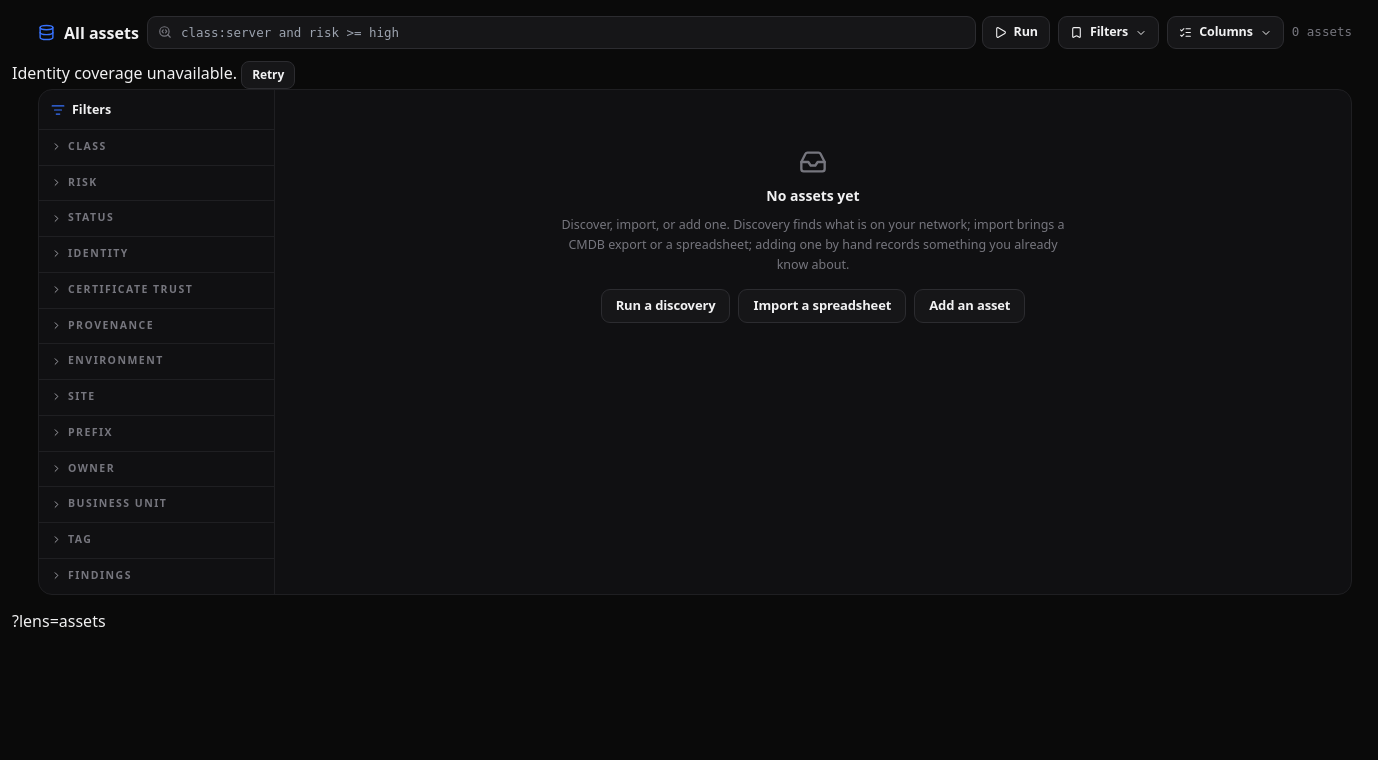
Scenario: Assets lens · Certificate trust facet › asks for the cert_trust level and shows its counts, with an unlisted value as a real zero
The width and height of the screenshot is (1378, 760).
What coordinates should you click on to do the following:
click the button "Certificate trust"
I would click on:
 (156, 290)
Its box is [51,282,262,298].
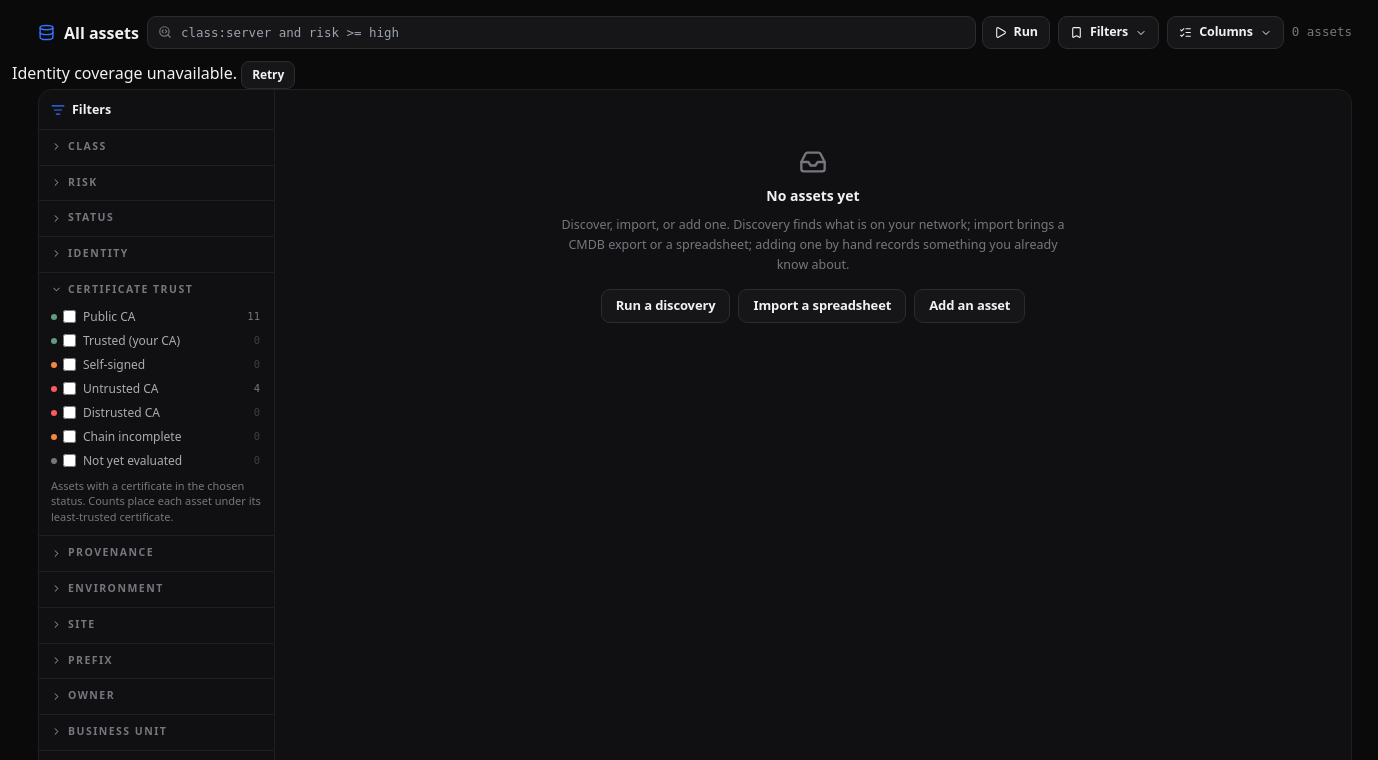
Expected: the label named "Untrusted CA" shows "4", [254,382,260,394]
Expected: the label "Public CA 11" is shown, [61,304,262,328]
Expected: the label "Not yet evaluated 0" is shown, [61,448,262,472]
